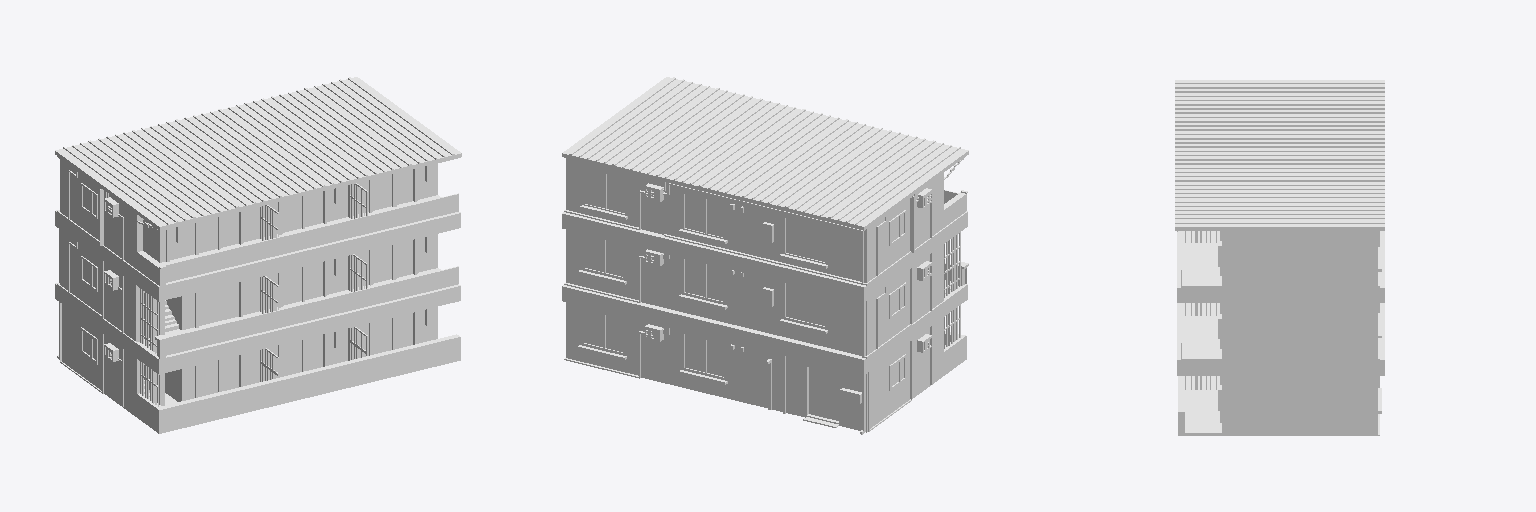
The model's file is GDS2_Build2-2.obj.
The picture shows the model from 3 angles: view 1: azimuth 30°, elevation 25°; view 2: azimuth 150°, elevation 25°; view 3: azimuth 270°, elevation 25°; orthographic projection.
Parts seen in each view (by area): view 1: object 1; view 2: object 1; view 3: object 1.
Boxes of the visible parts, <box> form: object 1: <box>55,77,461,433</box>; object 1: <box>562,77,968,434</box>; object 1: <box>1175,80,1384,435</box>.
Bounding box in the file's own units: 25.6 × 16.7 × 15.1.